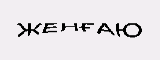Ғ: (78, 17, 96, 37)
